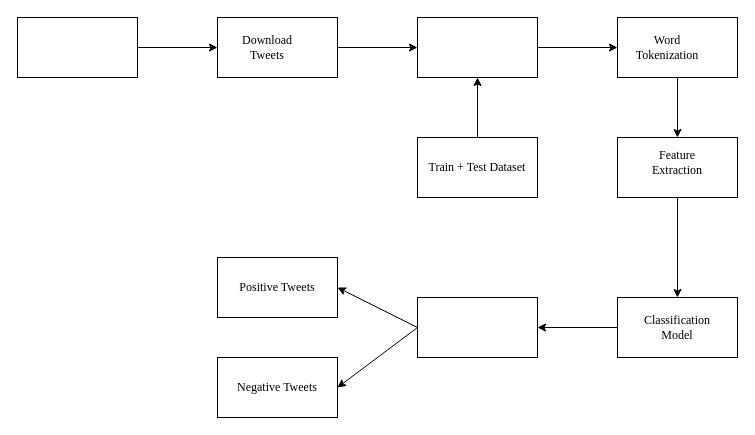
The diagram is 755 pixels wide and 435 high, and some of its shapes have lost their labels. The shapes that lost their labels are listed below. From the top down, each one's centre as x and y in pixels, then its label:
(77,47): User Input
(477,47): Data Preprocessing
(477,327): Classify Tweets
